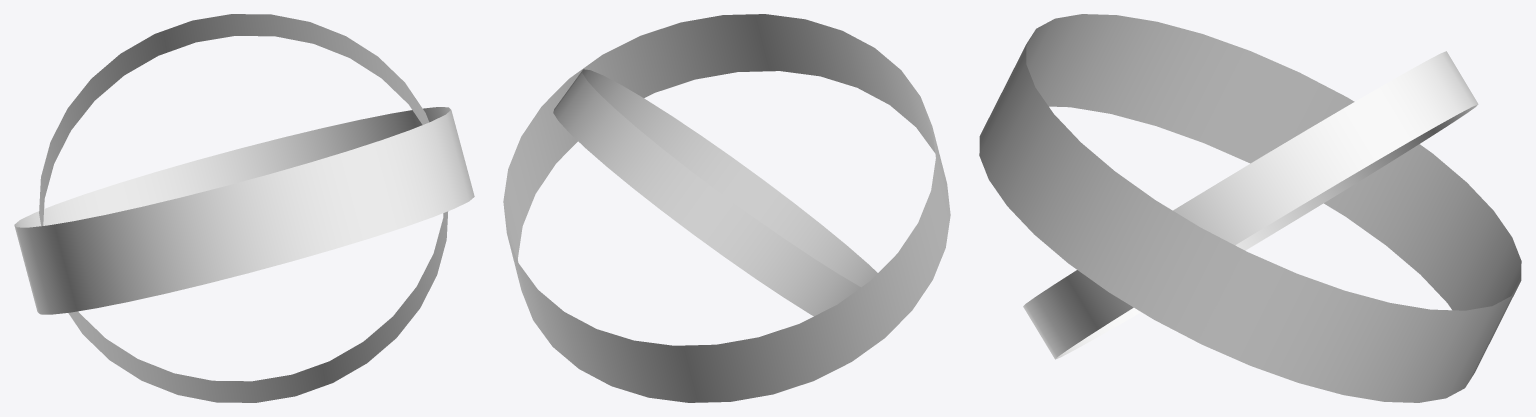
The model's file is CrippleEffect.fbx.
3 renders of one model, left to right at view 1: azimuth 30°, elevation 25°; view 2: azimuth 150°, elevation 25°; view 3: azimuth 270°, elevation 25°, orthographic. The views are drawn at different scales.
Parts seen in each view (by area): view 1: Visual; view 2: Visual; view 3: Visual.
Boxes of the visible parts, x1=… form: Visual: x1=14, y1=14, x2=474, y2=402; Visual: x1=503, y1=14, x2=950, y2=402; Visual: x1=979, y1=14, x2=1521, y2=402.
Bounding box in the file's own units: 3.22 × 2.12 × 3.15.
Materials: 1 (1 with a texture image).
